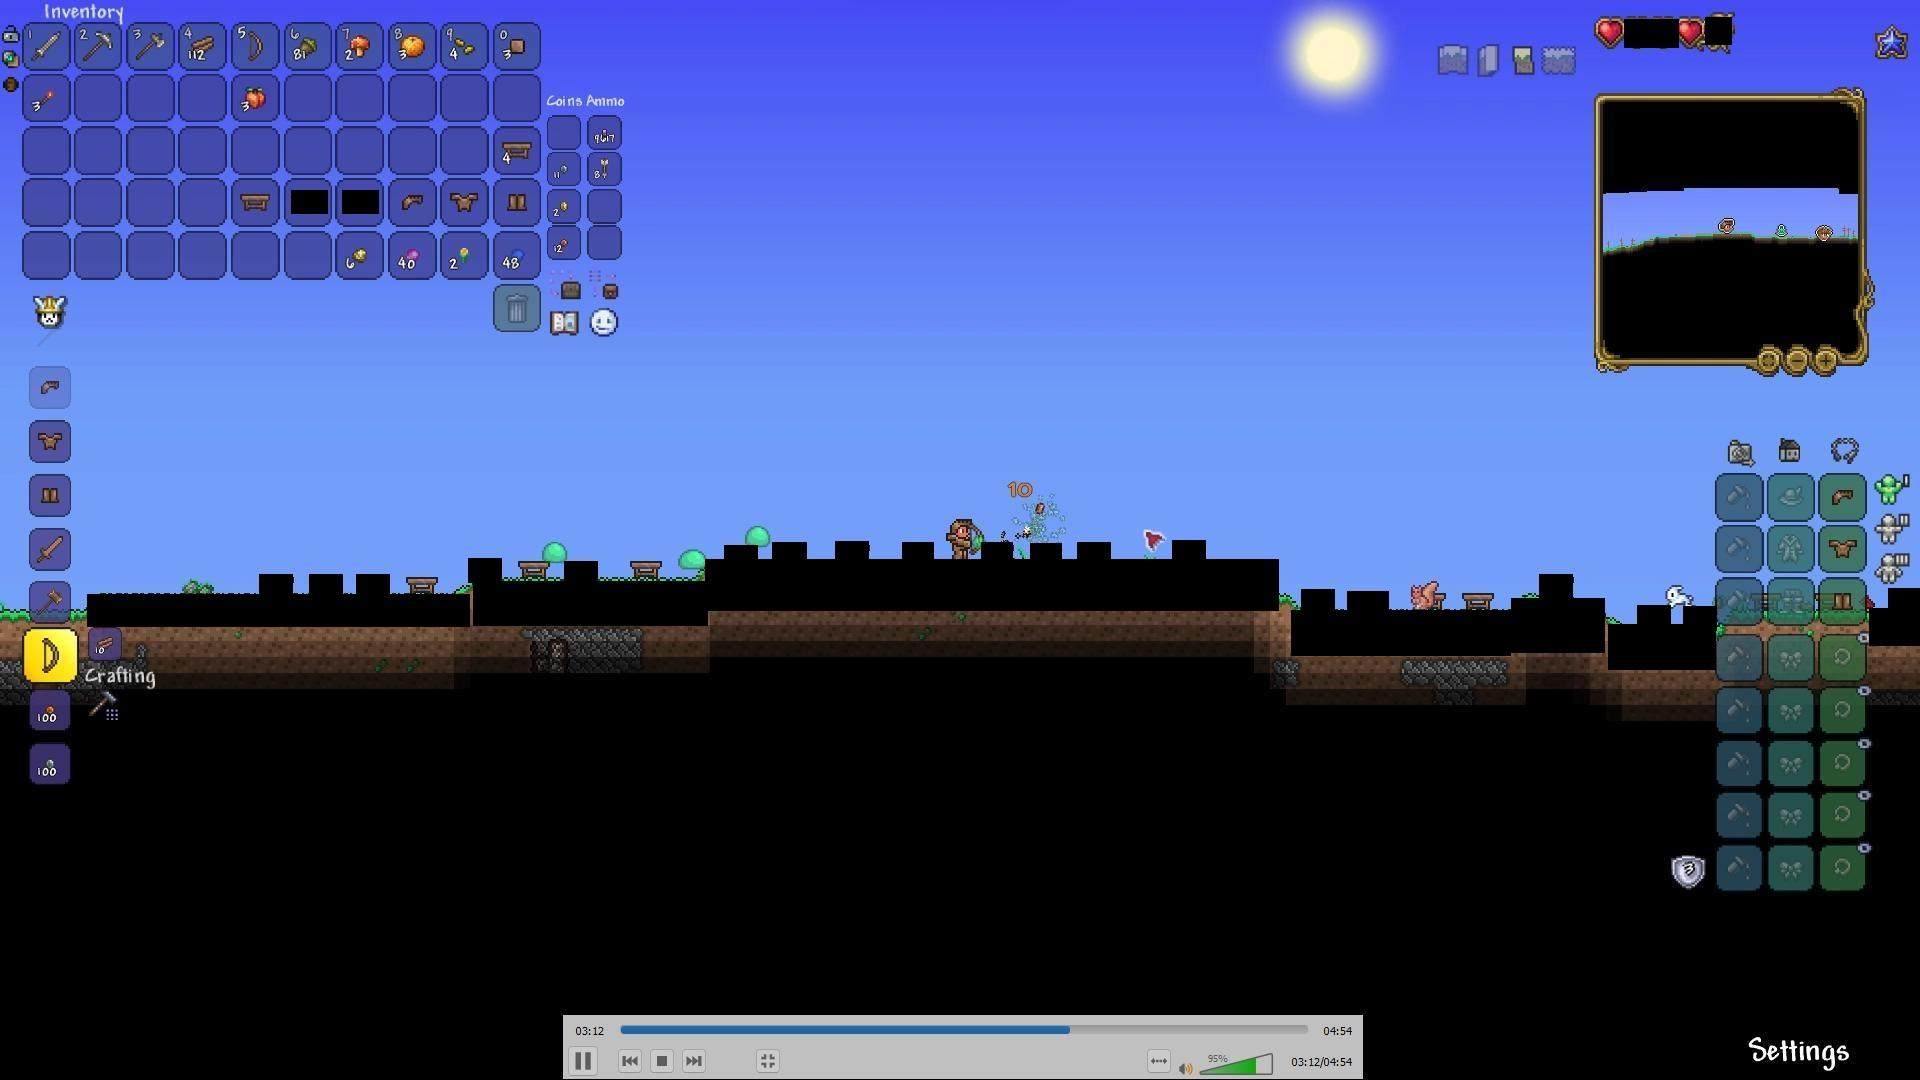breastplate: (1830, 537, 1859, 558), (36, 429, 65, 450), (448, 190, 477, 210)
heart: (1598, 16, 1626, 44), (1677, 18, 1702, 47)
helmet: (33, 375, 66, 402), (400, 189, 429, 214), (1828, 484, 1857, 509)
legs: (505, 186, 530, 214), (38, 483, 63, 510), (1832, 589, 1855, 615)
slime: (678, 543, 709, 571), (744, 521, 775, 549), (538, 533, 570, 560)
wood: (90, 632, 120, 657), (189, 34, 218, 59)
workbench: (236, 190, 273, 214), (500, 138, 535, 162), (1461, 589, 1494, 613), (406, 574, 439, 597), (516, 559, 549, 583), (632, 559, 663, 582)
